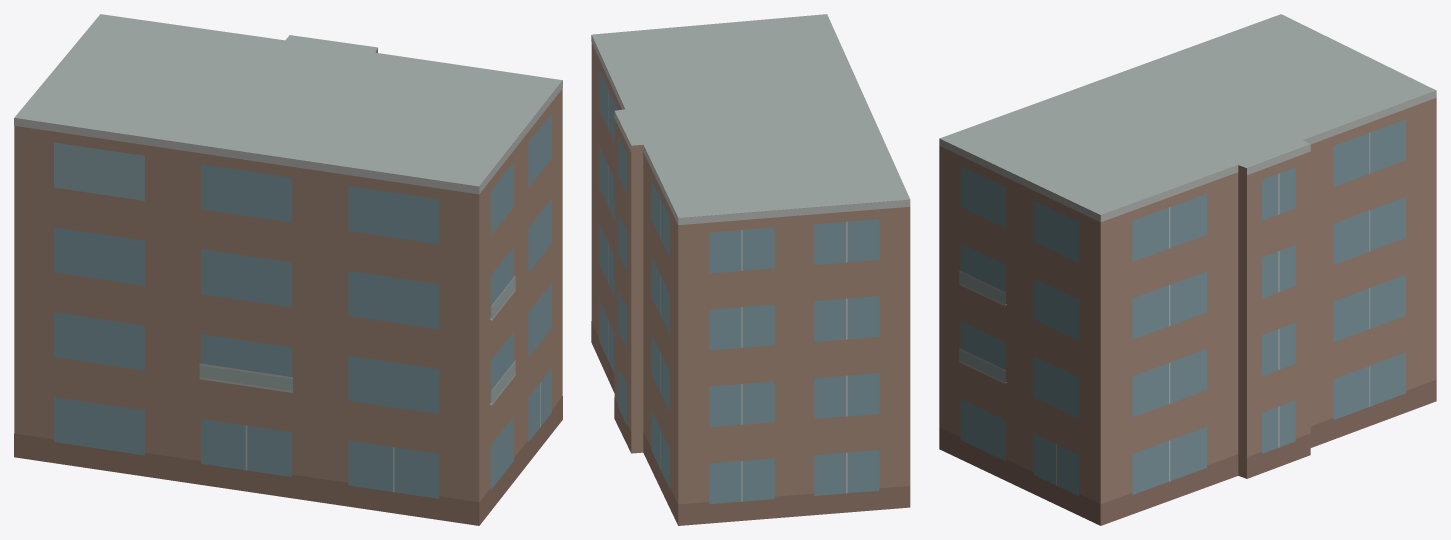
Rendered from survey-upis-32958135.glb.
The picture shows the model from 3 angles, left to right: view 1: azimuth 30°, elevation 25°; view 2: azimuth 150°, elevation 25°; view 3: azimuth 270°, elevation 25°; orthographic projection. The views are drawn at different scales.
Visible parts, largest first — view 1: survey-upis-32958135.tmp; view 2: survey-upis-32958135.tmp; view 3: survey-upis-32958135.tmp.
Boxes of the visible parts, x1,y1,x2,y2 form: survey-upis-32958135.tmp: (14,14,562,525); survey-upis-32958135.tmp: (591,14,910,525); survey-upis-32958135.tmp: (939,14,1436,525).
Size of the model in its own units: 14.58 by 10.5 by 15.23.
